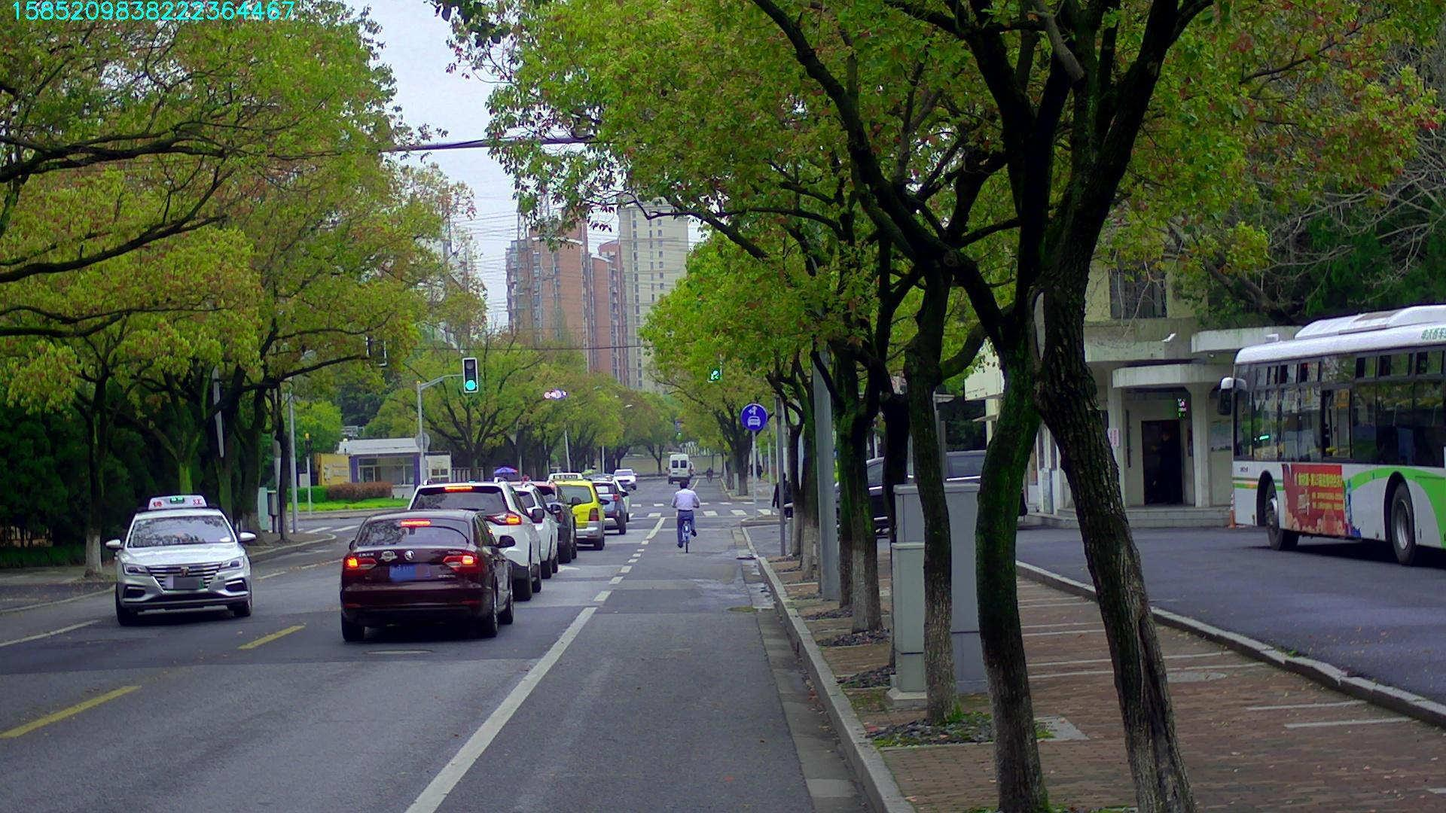green: (463, 358, 477, 391), (708, 350, 720, 381)
